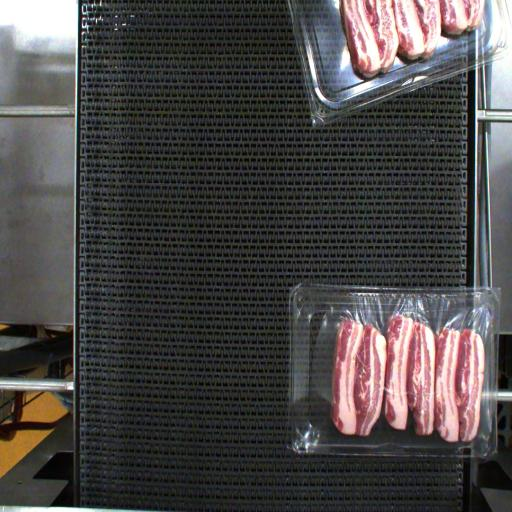unsealed: (295, 290, 485, 448)
